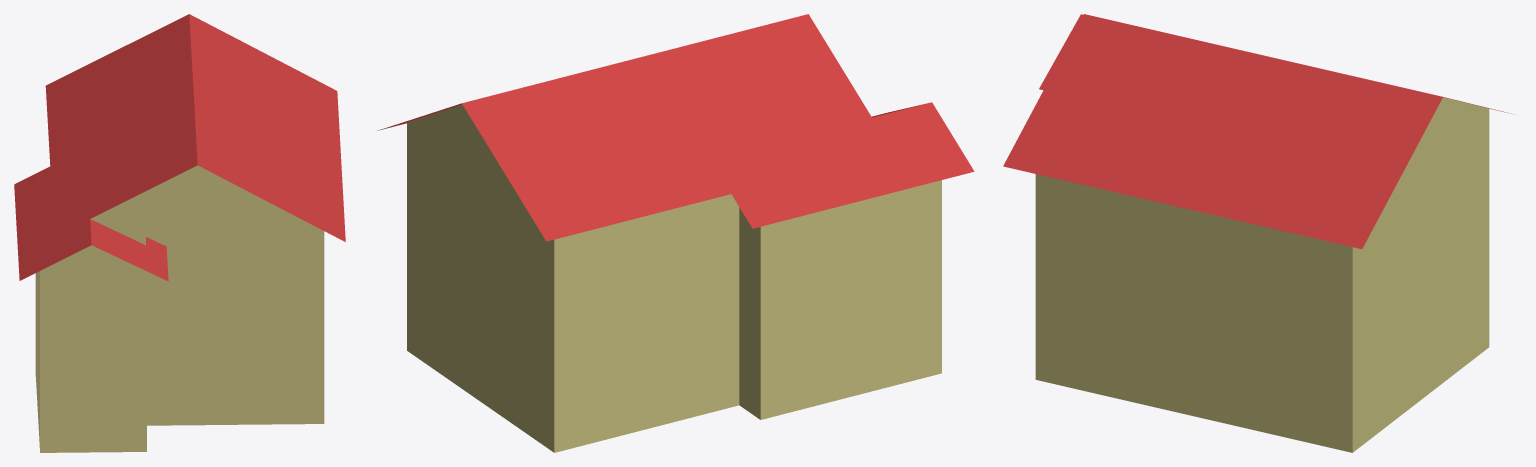
3 renders of one model, left to right at view 1: azimuth 30°, elevation 25°; view 2: azimuth 150°, elevation 25°; view 3: azimuth 270°, elevation 25°, orthographic. The views are drawn at different scales.
Parts seen in each view (by area): view 1: group_5, group_3, group_9, group_4, group_7; view 2: group_5, group_3, group_4; view 3: group_5, group_3, group_4.
Part boxes in pixels (x1,y1,x2,y2): group_5: [35, 165, 324, 452]; group_3: [14, 14, 345, 280]; group_9: [91, 245, 146, 452]; group_4: [14, 14, 262, 280]; group_7: [90, 219, 168, 281]; group_5: [407, 104, 941, 452]; group_3: [442, 14, 973, 241]; group_4: [377, 14, 974, 228]; group_5: [1035, 97, 1489, 452]; group_3: [1003, 14, 1442, 249]; group_4: [1084, 14, 1511, 168].
Size of the model in its own units: 17.46 by 16.21 by 10.58.
